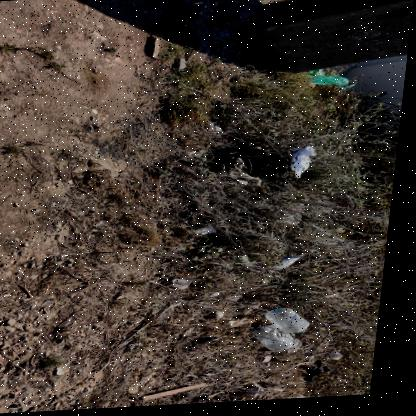Plastic: (274, 311, 318, 336), (261, 327, 301, 353), (309, 72, 358, 93), (233, 159, 266, 189), (294, 148, 323, 181), (289, 341, 310, 356), (173, 280, 198, 291), (336, 355, 353, 363), (232, 322, 249, 330), (310, 397, 324, 402)
Waste: (274, 257, 311, 277), (314, 363, 340, 385), (196, 227, 223, 237), (241, 257, 259, 268)
